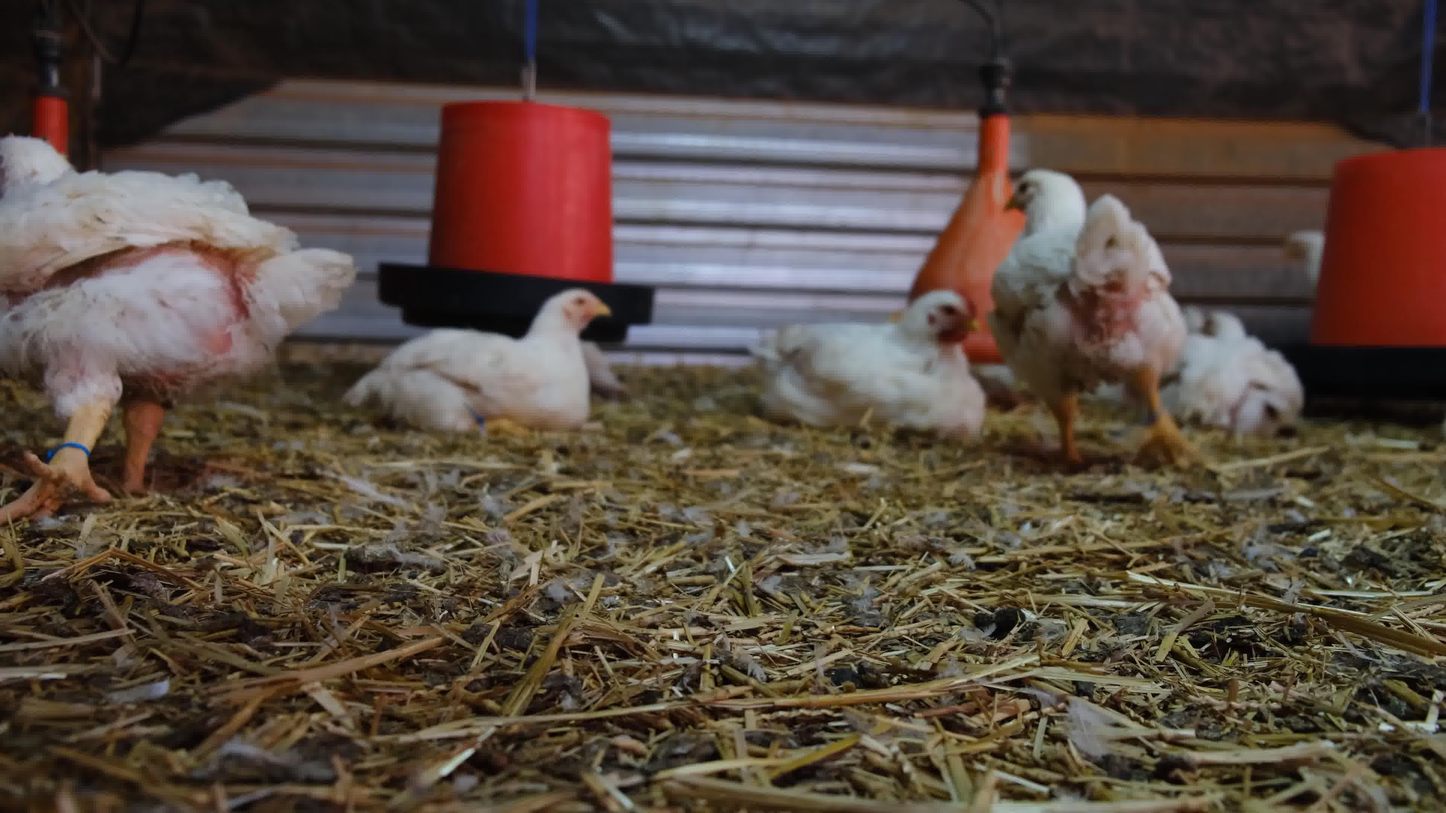AbNormal: (360, 286, 623, 472), (742, 273, 998, 452), (1179, 299, 1312, 454)
Normal: (0, 98, 397, 542), (972, 158, 1213, 454), (1246, 203, 1350, 309)
